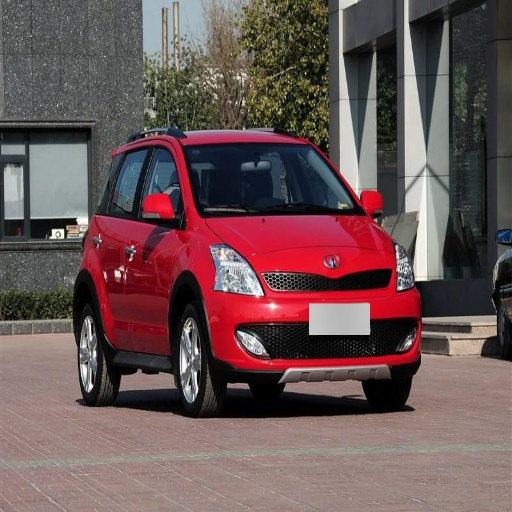front_bumper: (209, 268, 420, 381)
front_right_door: (125, 141, 184, 351)
front_right_light: (210, 243, 260, 296)
hood: (207, 215, 394, 277)
